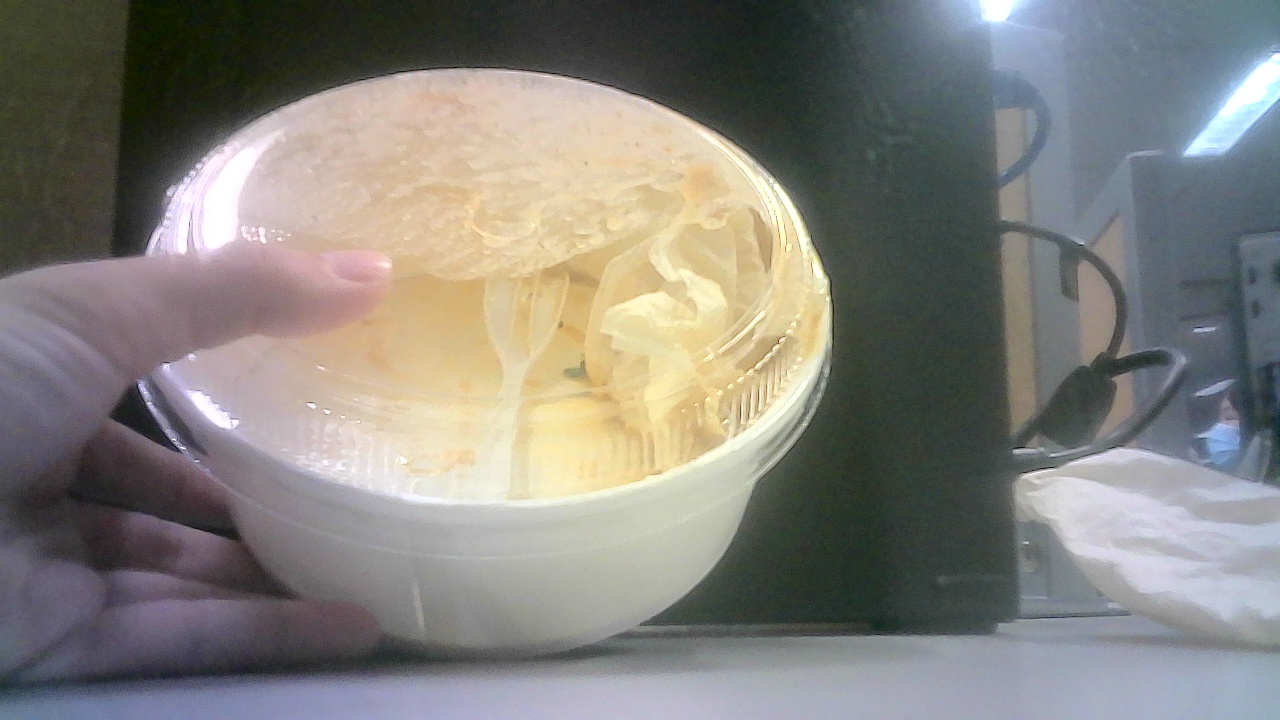Undefined_Waste: (3, 45, 906, 719)
